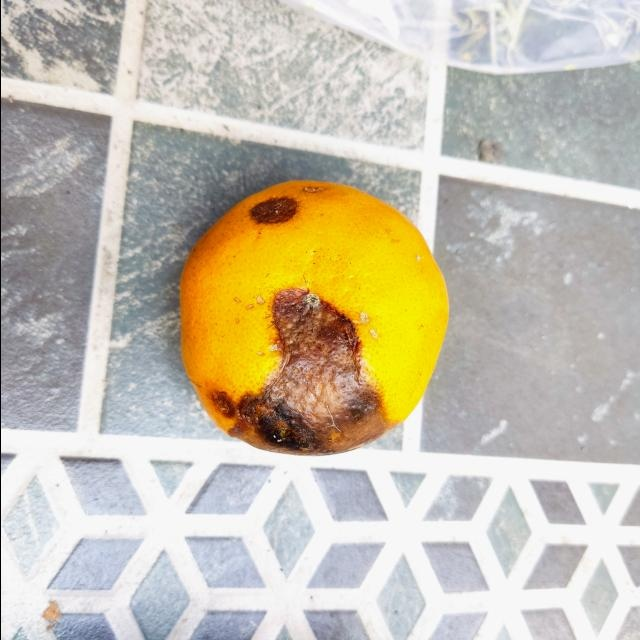agrume: (171, 172, 455, 462)
